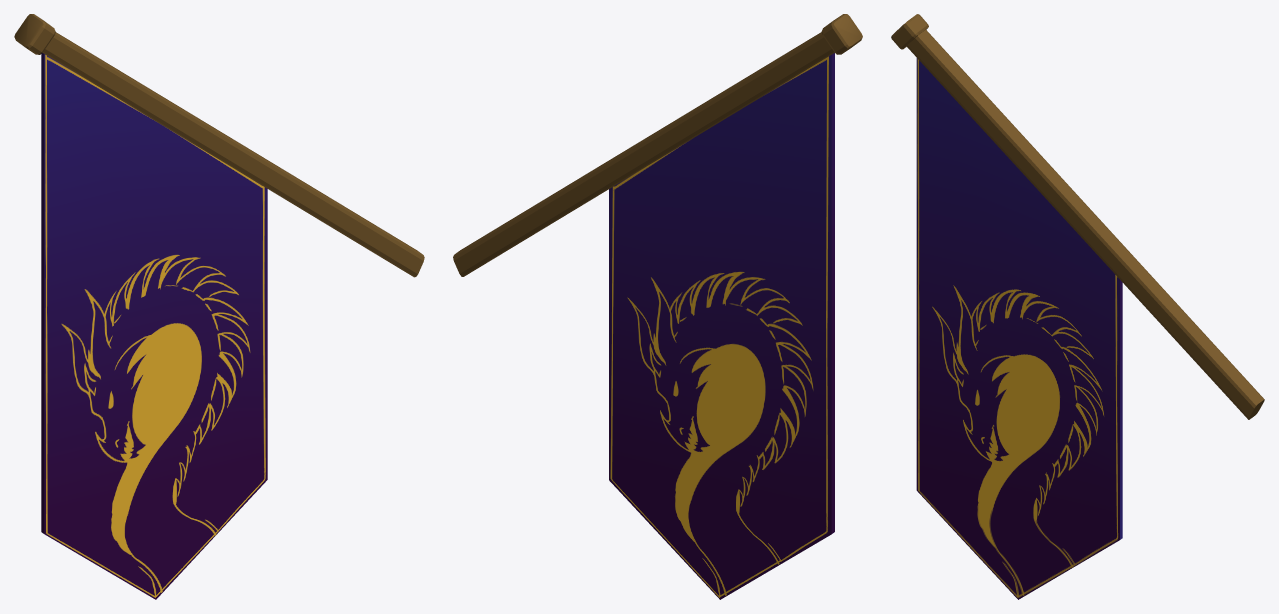
The model's file is Banner_Wall.fbx.
3 views of the same model, side by side, from view 1: azimuth 30°, elevation 25°; view 2: azimuth 150°, elevation 25°; view 3: azimuth 330°, elevation 25° (orthographic). The views are drawn at different scales.
Visible parts, largest first — view 1: Banner_Wall; view 2: Banner_Wall; view 3: Banner_Wall.
Part boxes in pixels (x1,y1,x2,y2): Banner_Wall: (14, 14, 424, 599); Banner_Wall: (453, 14, 862, 599); Banner_Wall: (891, 14, 1264, 599).
Bounding box in the file's own units: 215 × 313 × 15.
